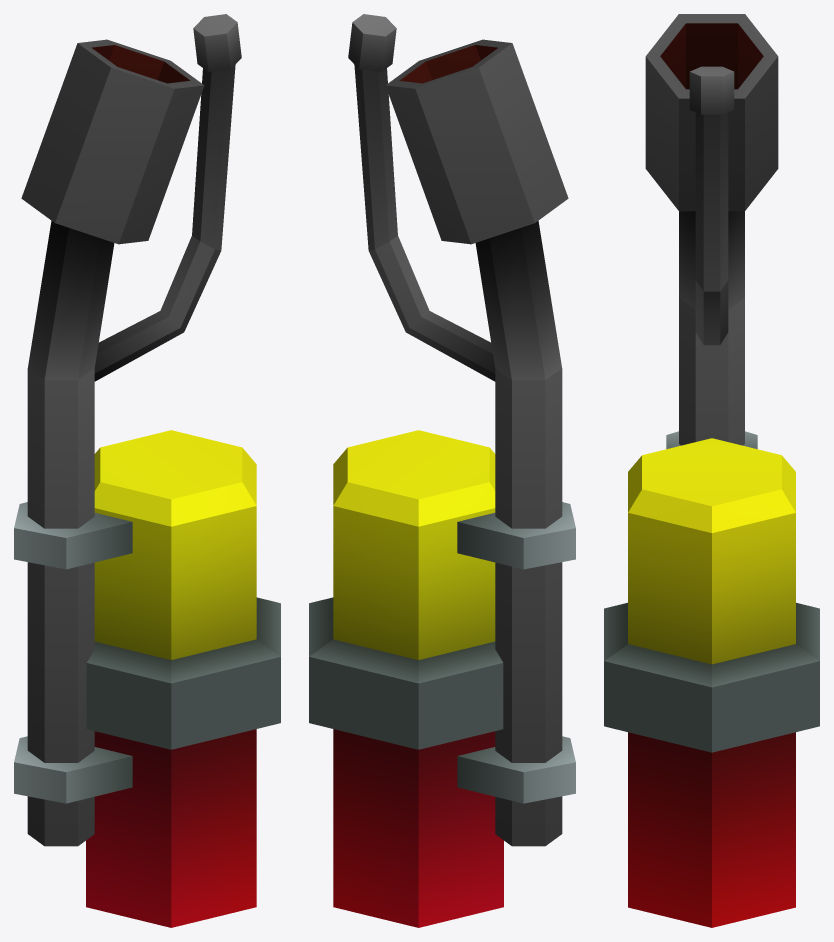
File: Flamethrower.fbx
The picture shows the model from 3 angles, left to right: view 1: azimuth 30°, elevation 25°; view 2: azimuth 150°, elevation 25°; view 3: azimuth 270°, elevation 25°; orthographic projection.
Parts seen in each view (by area): view 1: Flamethrower; view 2: Flamethrower; view 3: Flamethrower.
Boxes of the visible parts, box(x1,y1,x2,y2) form: Flamethrower: box(14, 14, 280, 927); Flamethrower: box(309, 14, 575, 927); Flamethrower: box(604, 14, 819, 927).
Size of the model in its own units: 31.29 by 95.6 by 22.26.
